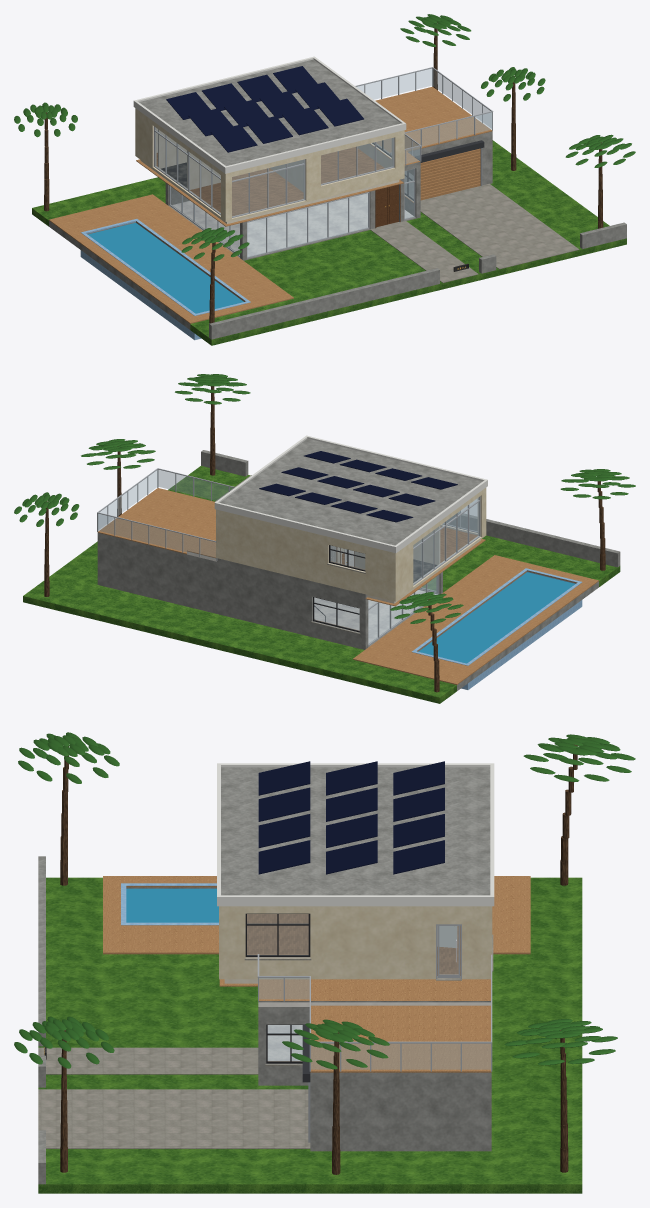
Rendered from b_villa_luxury_modern.gltf.
3 renders of one model, top to bottom at view 1: azimuth 30°, elevation 25°; view 2: azimuth 150°, elevation 25°; view 3: azimuth 270°, elevation 25°, orthographic. The views are drawn at different scales.
Visible parts, largest first — view 1: S_villa_luxury_modern, D_villa_luxury_modern_GarageDoor; view 2: S_villa_luxury_modern; view 3: S_villa_luxury_modern, D_villa_luxury_modern_C_E0_Door0.
Boxes of the visible parts, bbox=[...] form: S_villa_luxury_modern: bbox=[14, 14, 635, 345]; D_villa_luxury_modern_GarageDoor: bbox=[420, 148, 480, 200]; S_villa_luxury_modern: bbox=[14, 374, 635, 703]; S_villa_luxury_modern: bbox=[14, 732, 635, 1193]; D_villa_luxury_modern_C_E0_Door0: bbox=[437, 925, 460, 977].
Size of the model in its own units: 30.38 by 9.25 by 24.
28 materials, 14 textured.
